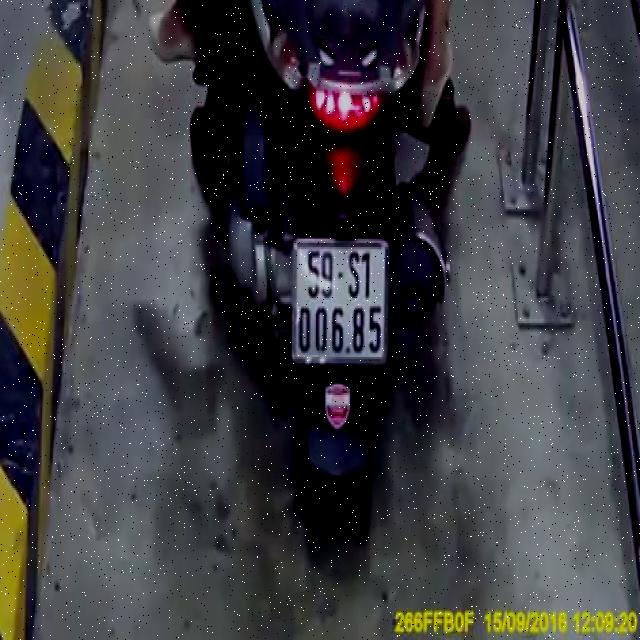0: (299, 305, 314, 355), (316, 306, 327, 352)
1: (362, 248, 376, 306)
5: (306, 250, 320, 305), (368, 305, 384, 353)
6: (331, 306, 343, 350)
8: (351, 307, 364, 354)
9: (320, 252, 335, 300)
S: (348, 252, 362, 302)
